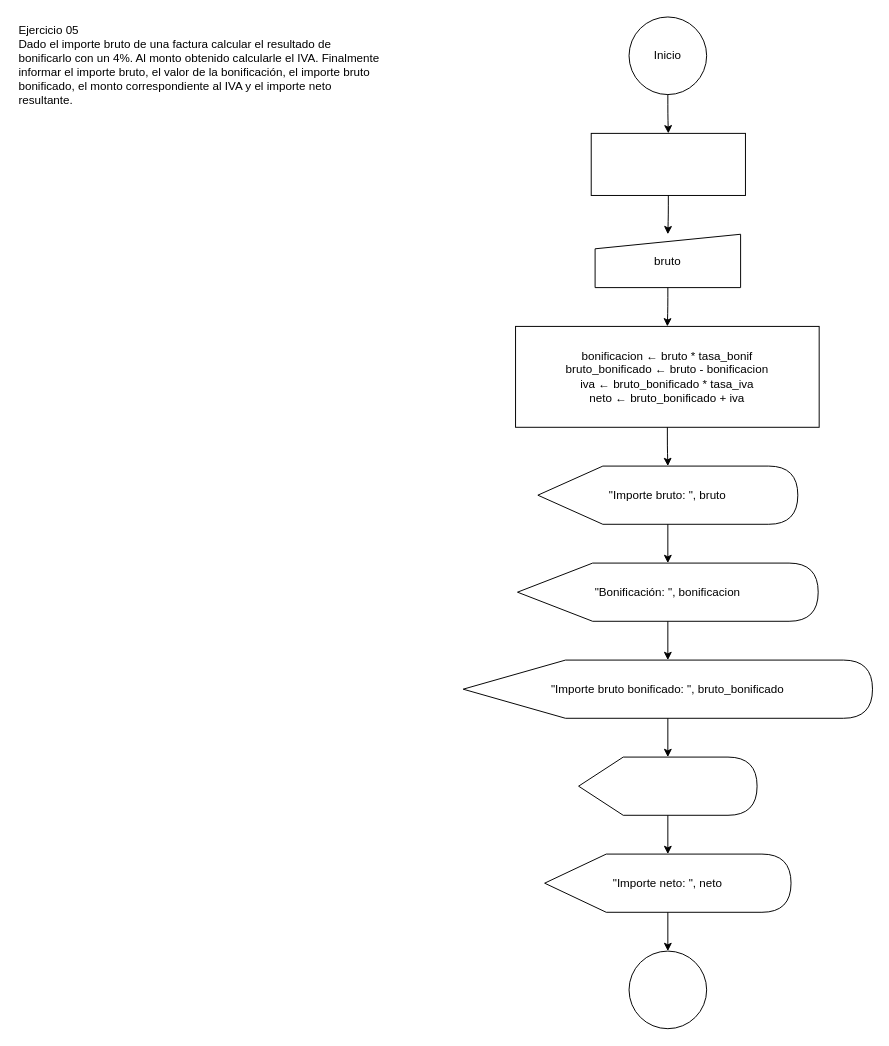
Some shapes in this 889 by 1046 pixel diagram are drawn without their labels. The centre of each missing label's shape, as x and y in pixels:
"IVA: ", iva: (x=667, y=785)
Fin: (x=667, y=989)
tasa_bonif ← 0.04 tasa_iva ← 0.21: (x=667, y=163)
